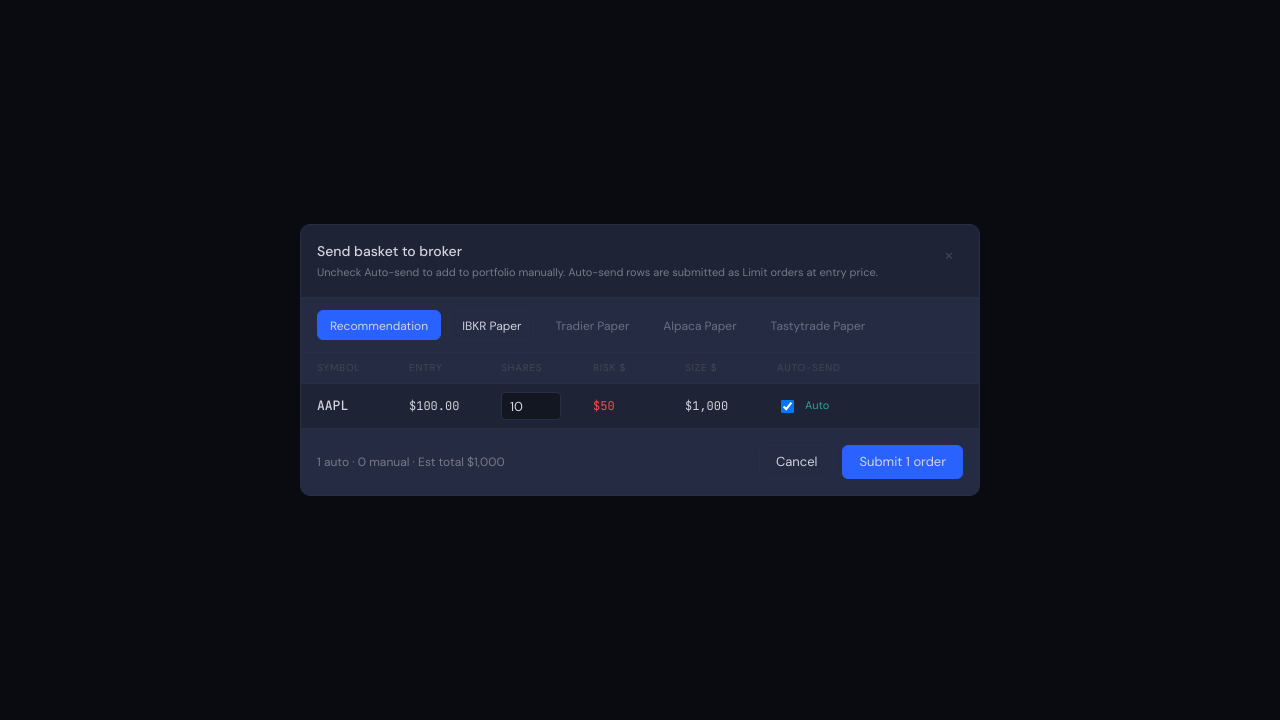
it: StockSendDialog — partial basket failure retry › does NOT re-submit a row whose order status is unknown
The image size is (1280, 720).
What coordinates should you click on to do the following:
click the button "IBKR Paper"
I would click on:
 (492, 325)
Its box is top-left (449, 310), bottom-right (534, 340).
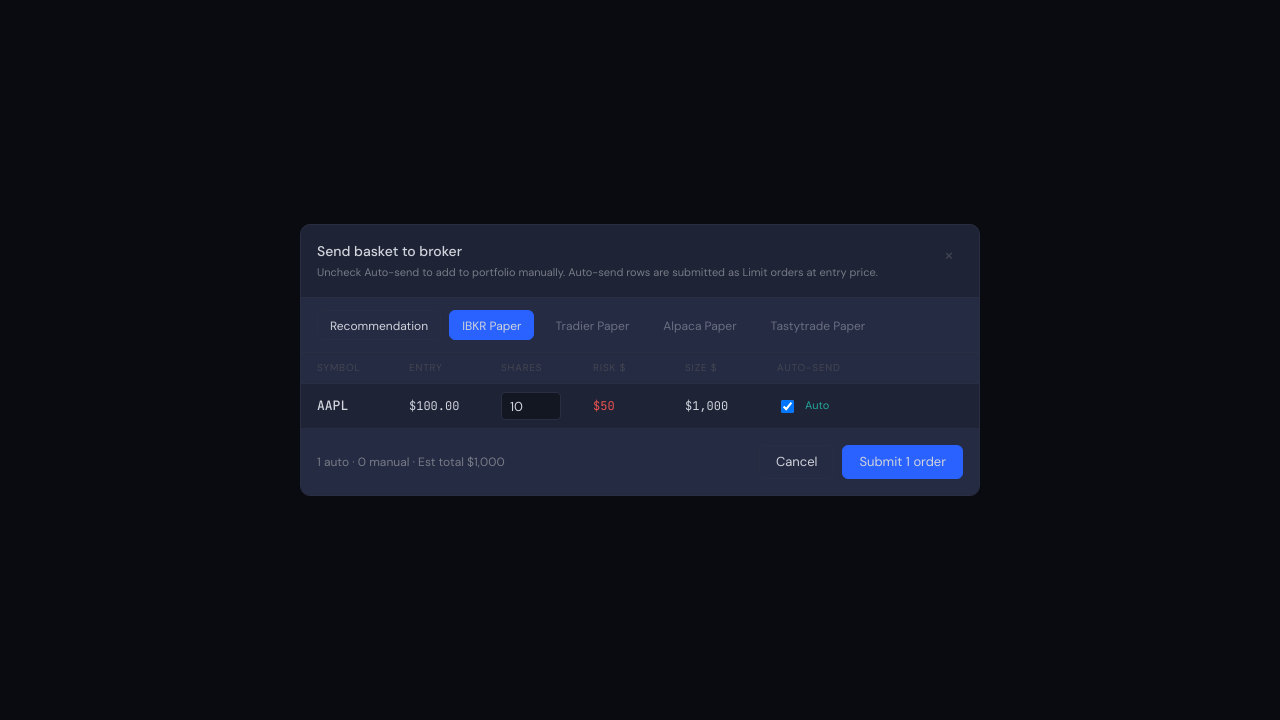
What coordinates should you click on to do the following:
click the button "Submit 1 order"
I would click on:
 (903, 462)
Its box is top-left (842, 445), bottom-right (963, 479).
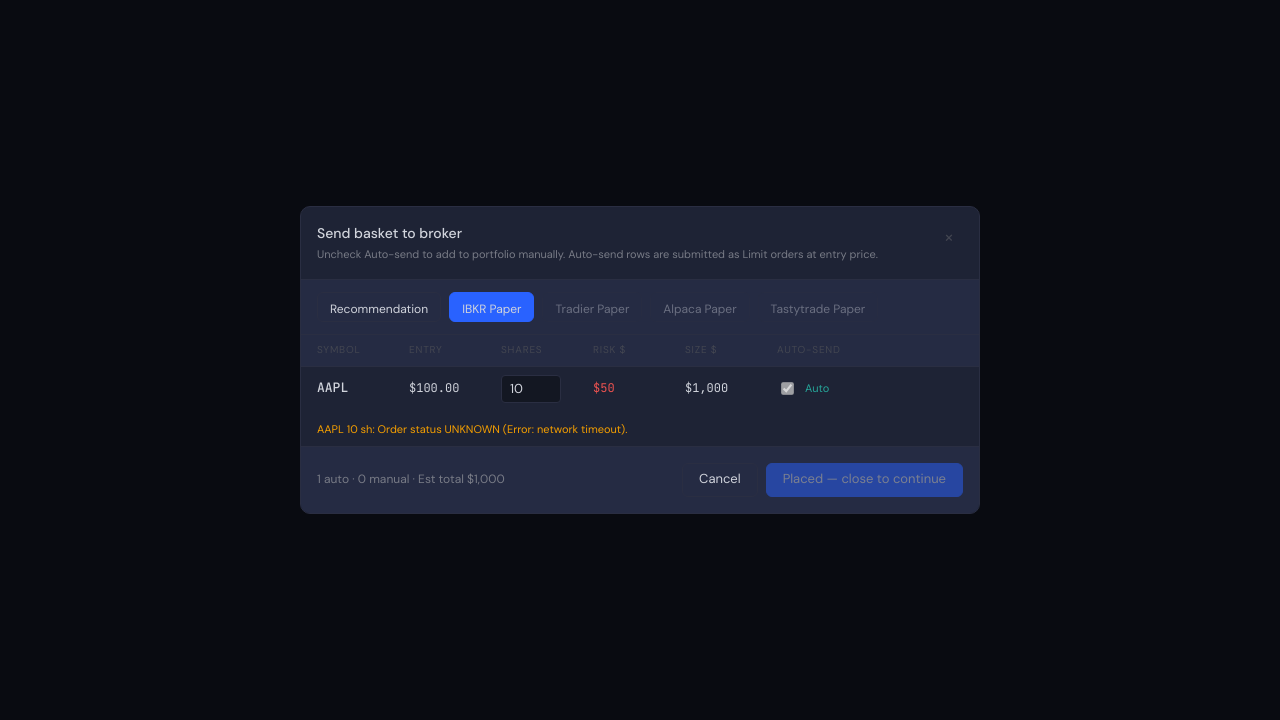
Check: the button "Placed — close to continue" is disabled, box top-left (766, 463), bottom-right (963, 497)
Check: the text "AAPL 10 sh: Order status UNKNOWN (Error: network timeout)." is shown, box top-left (317, 422), bottom-right (627, 436)
